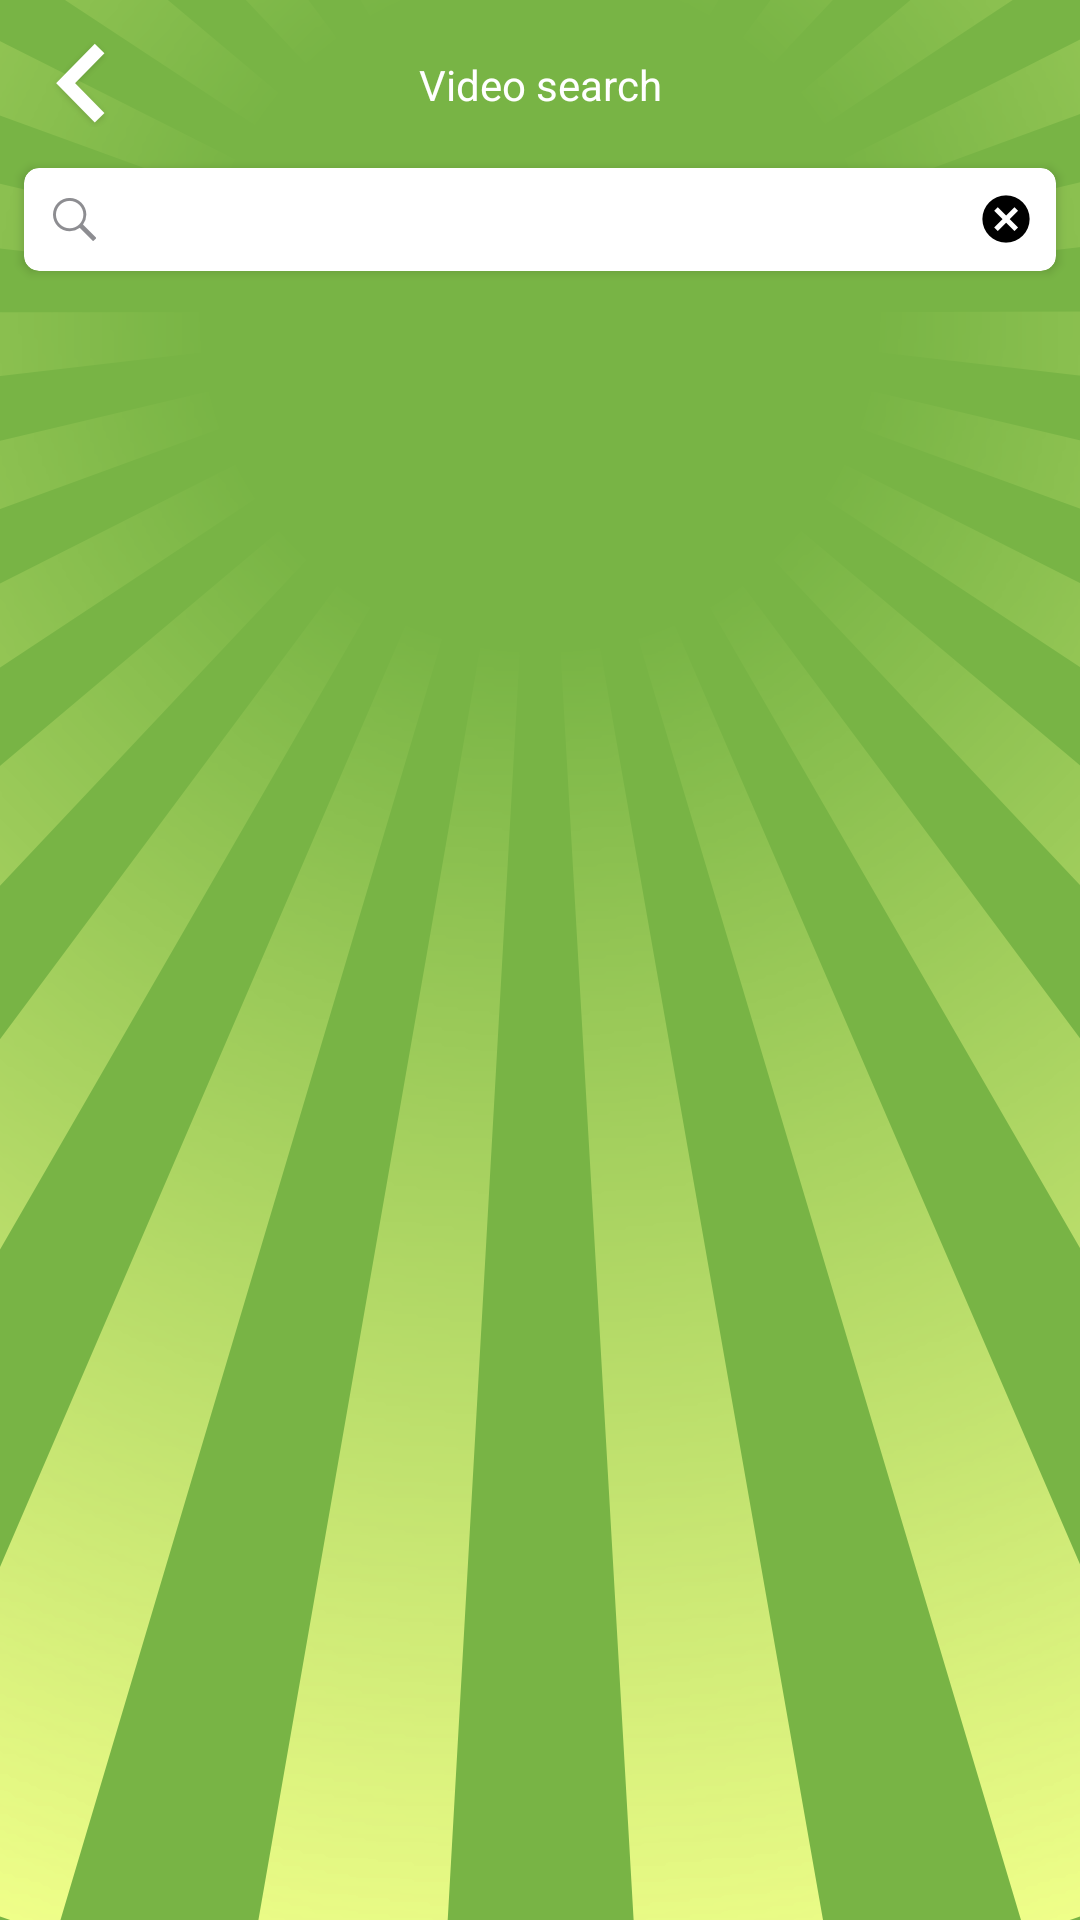

Where to tap for icons on this 1080 x 1920 app screen, as point (x, y):
back: point (80, 83)
reset: point (1006, 219)
search: point (74, 219)
